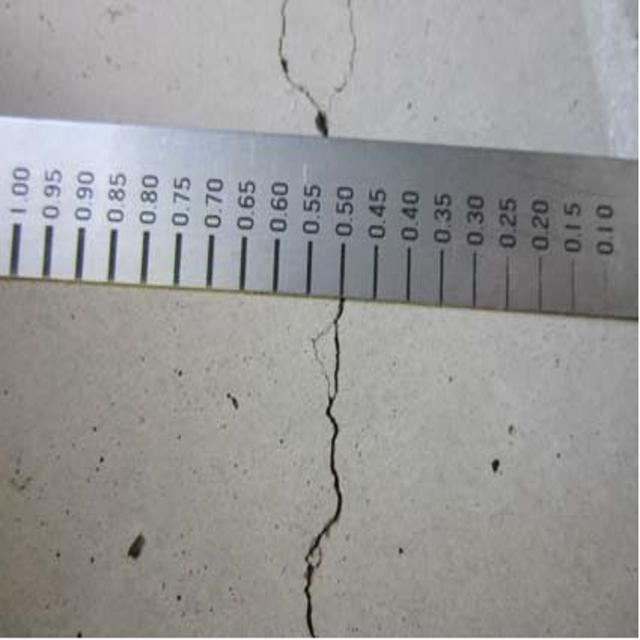crack: (298, 304, 362, 640), (267, 10, 374, 144)
